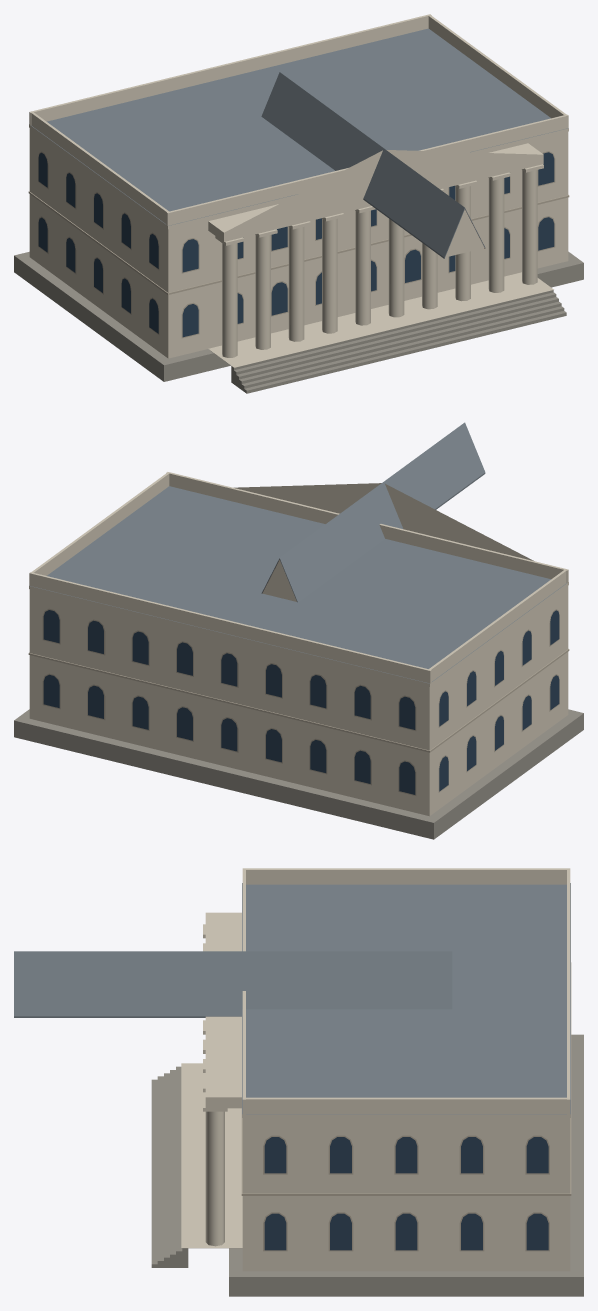
File: palais_justice.glb
The picture shows the model from 3 angles, top to bottom: view 1: azimuth 30°, elevation 25°; view 2: azimuth 150°, elevation 25°; view 3: azimuth 270°, elevation 25°; orthographic projection. The views are drawn at different scales.
Parts seen in each view (by area): view 1: palais_justice; view 2: palais_justice; view 3: palais_justice.
Boxes of the visible parts, left/top/right/bottom form: palais_justice: left=14, top=14, right=583, bottom=393; palais_justice: left=14, top=422, right=583, bottom=839; palais_justice: left=14, top=868, right=583, bottom=1296.
Bounding box in the file's own units: 42 × 18.14 × 41.75.
Materials: 1 (1 with a texture image).
